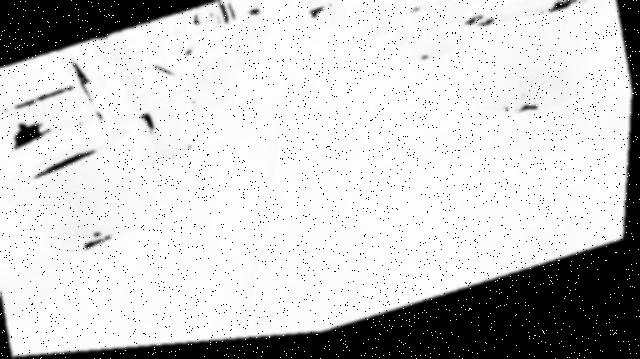pot: (0, 60, 235, 254), (402, 0, 611, 111), (325, 0, 431, 45), (200, 42, 254, 79)
